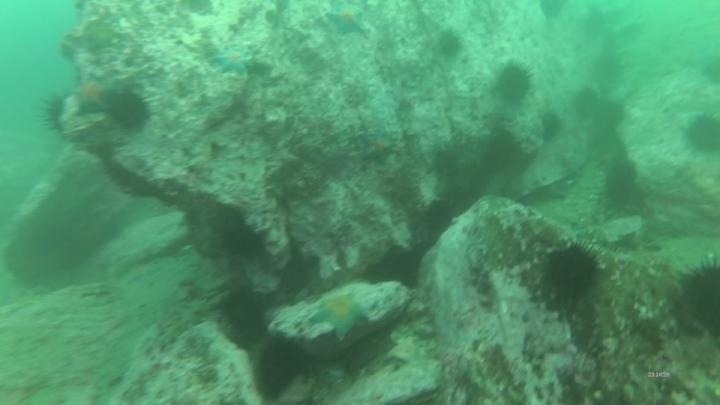echinus: (673, 255, 720, 340), (250, 336, 312, 400), (540, 240, 603, 302), (217, 287, 271, 347), (105, 88, 152, 132), (600, 160, 640, 210), (218, 221, 267, 260), (493, 61, 534, 105), (481, 129, 522, 172), (682, 111, 720, 157), (38, 91, 71, 136), (422, 198, 459, 237), (590, 97, 628, 133), (589, 52, 625, 86), (570, 86, 603, 121), (434, 28, 465, 61), (537, 109, 565, 143), (536, 0, 569, 22), (57, 40, 80, 64)
holothurian: (473, 213, 521, 271), (587, 293, 622, 359)
starfish: (309, 291, 371, 341), (70, 74, 117, 117), (355, 126, 398, 165), (325, 2, 369, 37), (210, 45, 254, 77)
